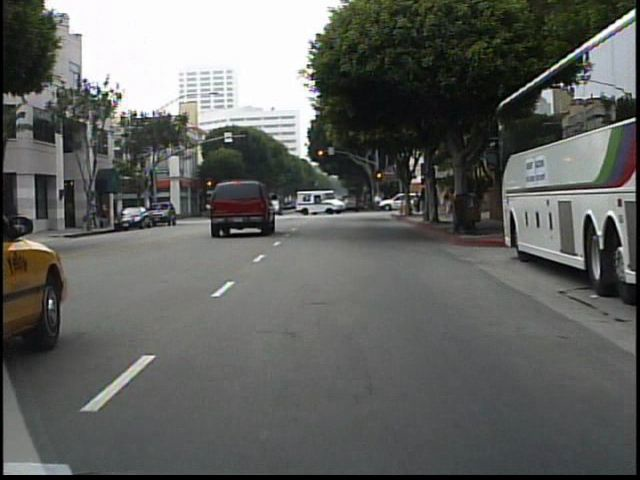person: (440, 185, 455, 218)
